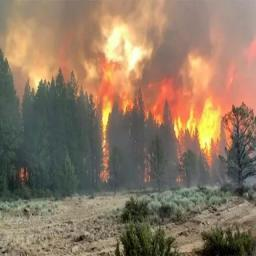Heavy smoke: (1, 1, 256, 108)
Large fire: (101, 92, 234, 182)
